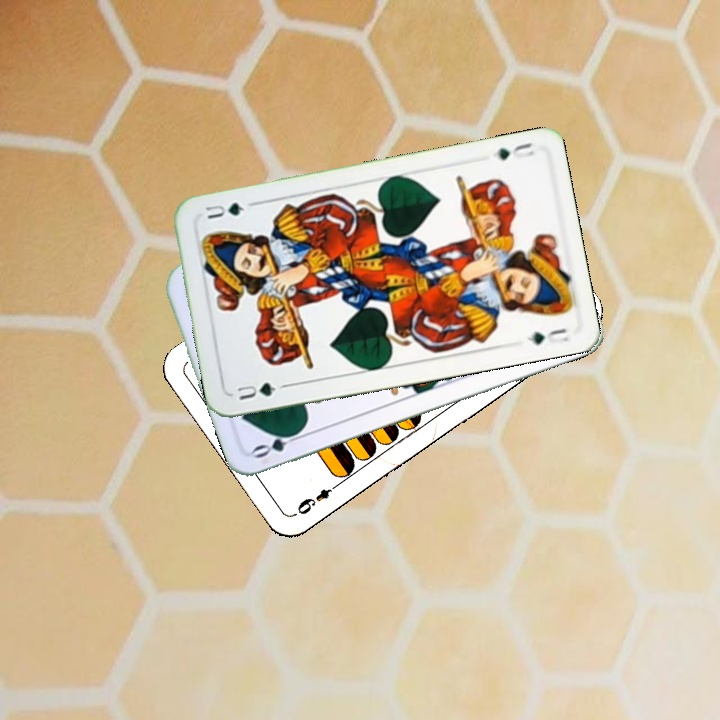E9: (292, 478, 343, 518)
GO: (249, 425, 307, 461)
GU: (233, 378, 279, 403), (493, 138, 537, 163)
